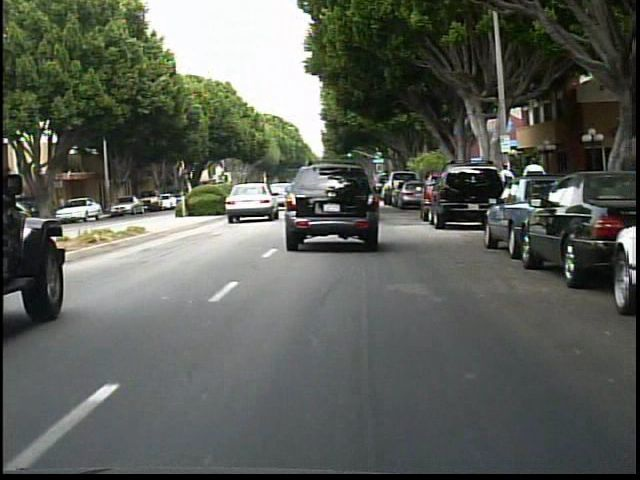person: (519, 154, 547, 217), (494, 160, 518, 213), (54, 191, 73, 223)
